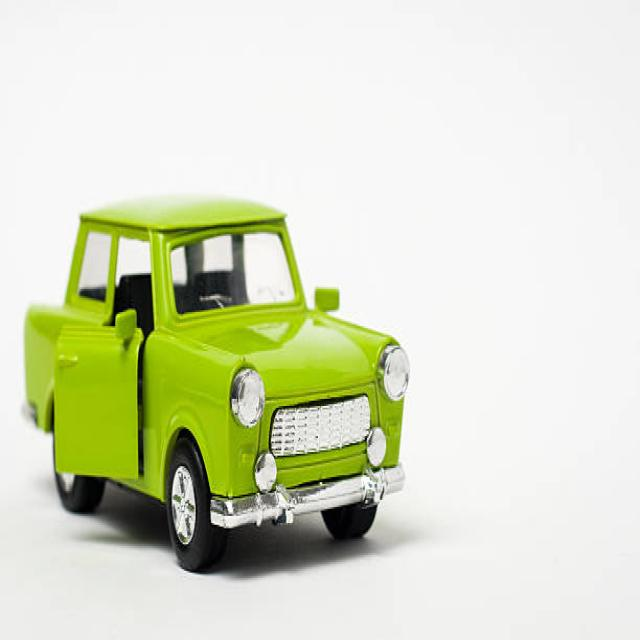Car: (23, 193, 410, 573)
